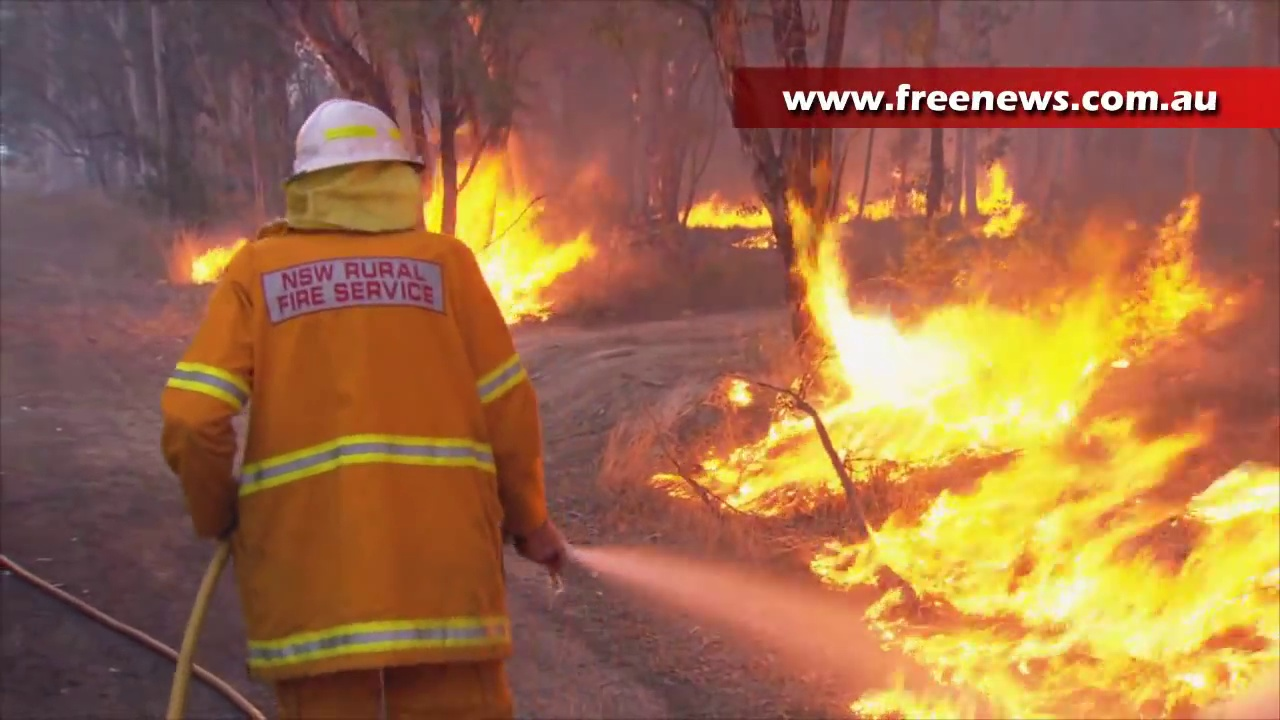fire: (709, 310, 1280, 718), (426, 155, 587, 323), (1147, 193, 1201, 304), (981, 157, 1022, 238), (689, 205, 772, 231), (850, 195, 925, 219), (194, 248, 228, 285)
